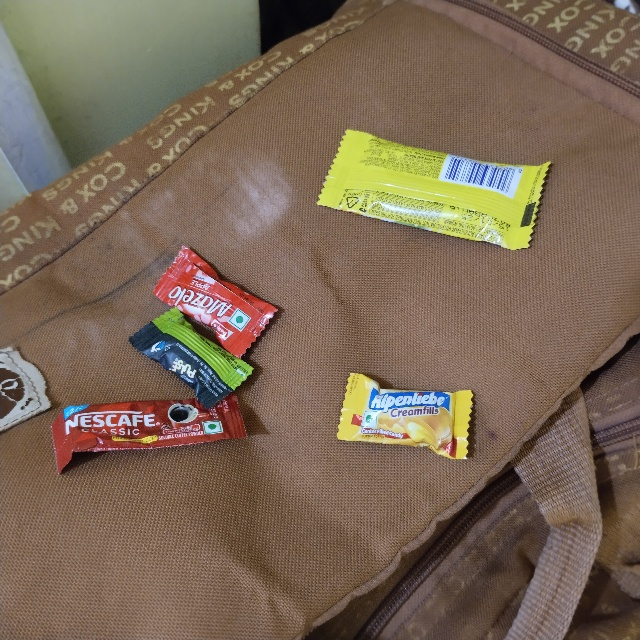Alpenlibe Creamfills: (348, 369, 478, 443)
Mazelo: (150, 291, 212, 401)
Nescafe Coffee: (43, 411, 251, 469)
Orbit: (338, 115, 558, 213)
Pulse: (170, 296, 289, 352)
